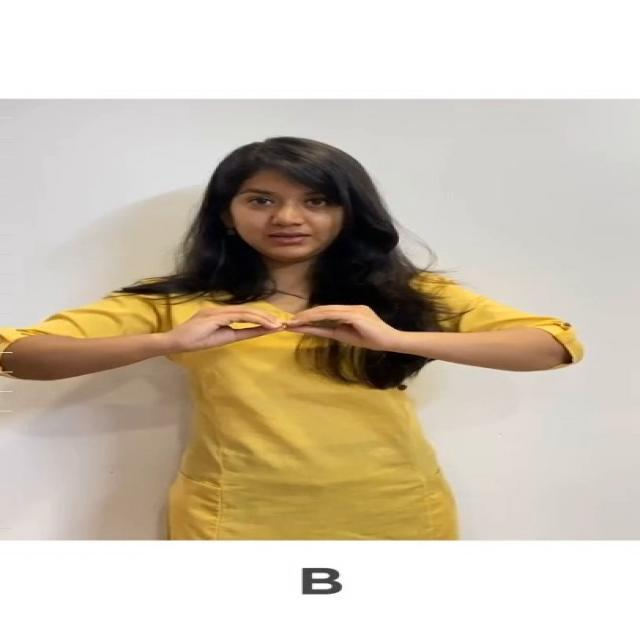B: (153, 300, 420, 358)
